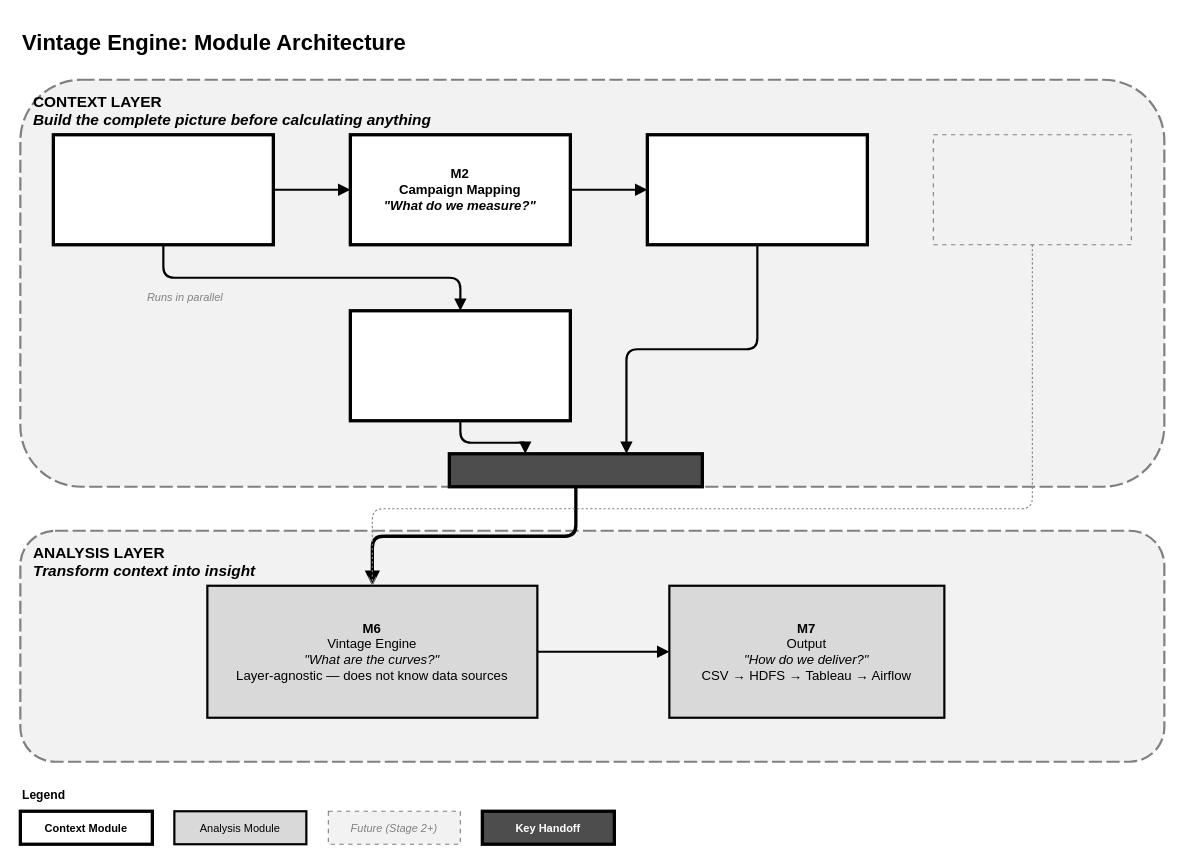
This 1185x865 diagram has some shape labels left out. Each missing label, with the centre of its shape:
M1 Experiment Metadata "Who is in the test?": [162,189]
M3 Success Definition "How do we calculate?": [756,189]
M4 Enrichment (Future — Stage 2+): [1031,189]
M5 Client Journey "What did clients do?": [459,365]
Standardized Context: [575,470]
